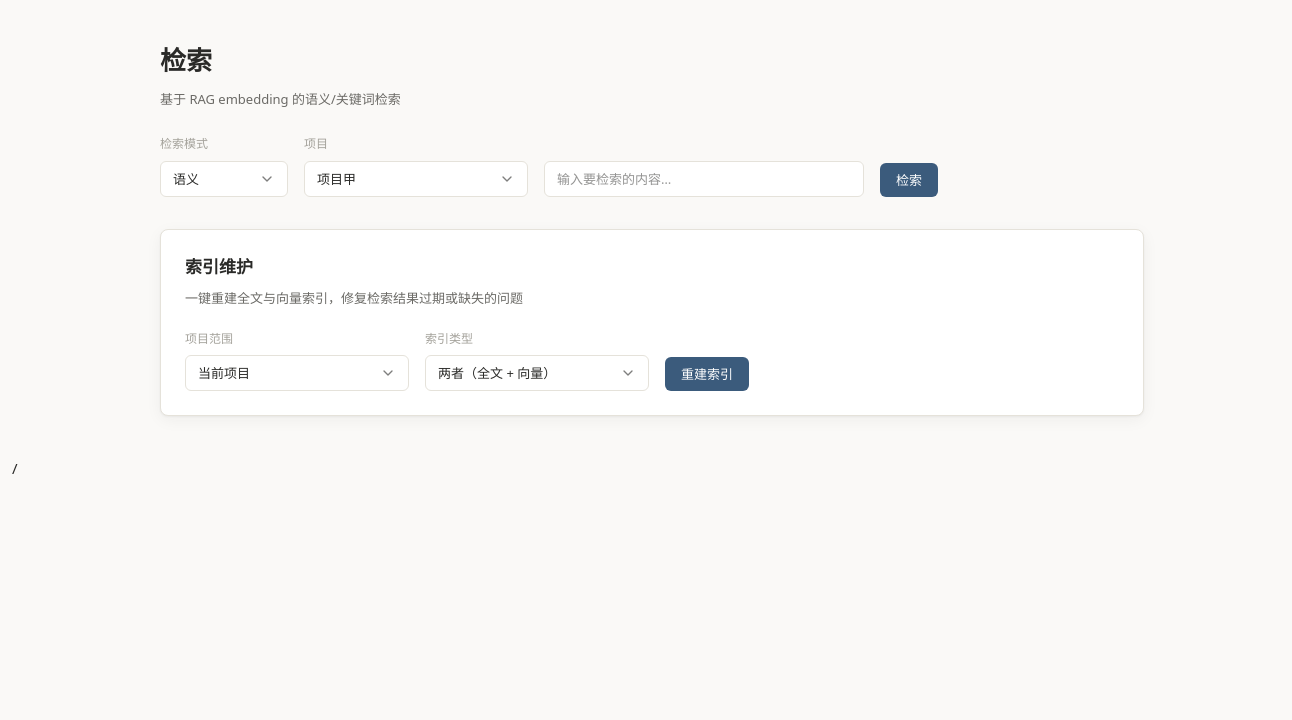
Test: 检索页 — 检索交互（#480） › total=0 → search-empty 空态
The image size is (1292, 720).
In the field labelled "输入要检索的内容…": {"x": 704, "y": 179} [544,161,864,197], type "青云"
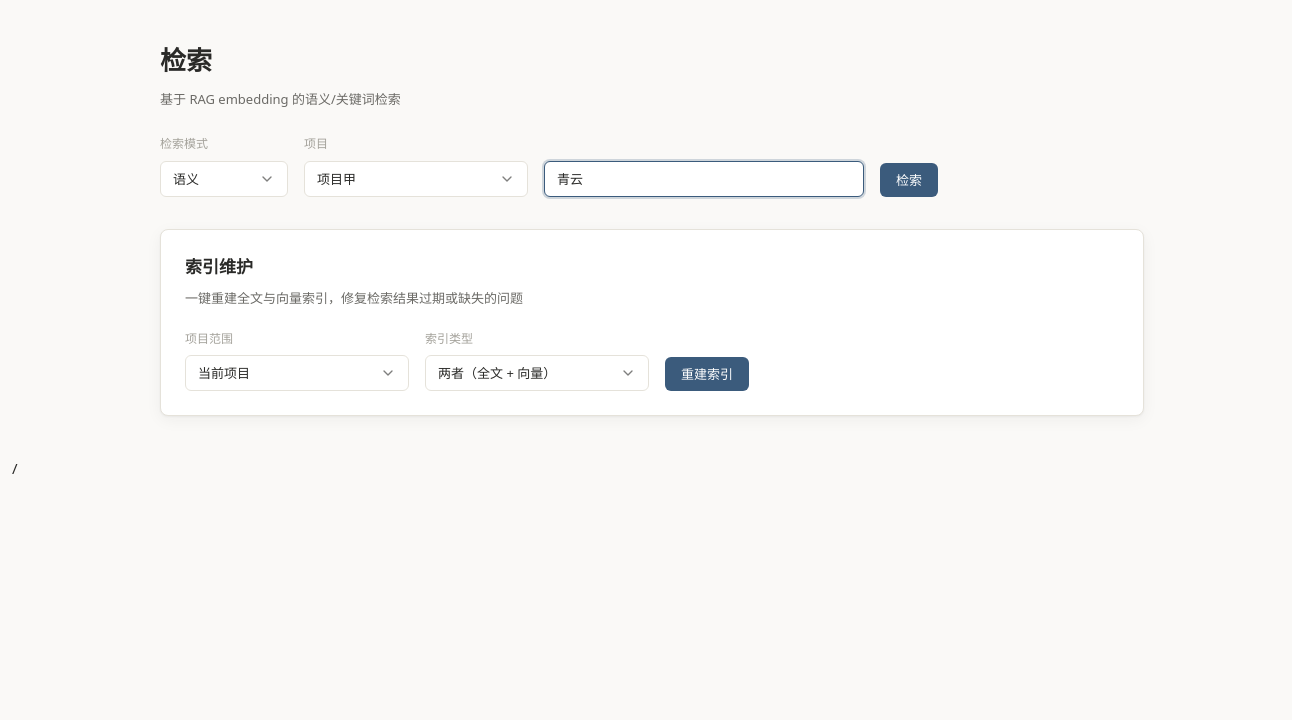
Click the button "检索": {"x": 909, "y": 180} [880,163,938,197]
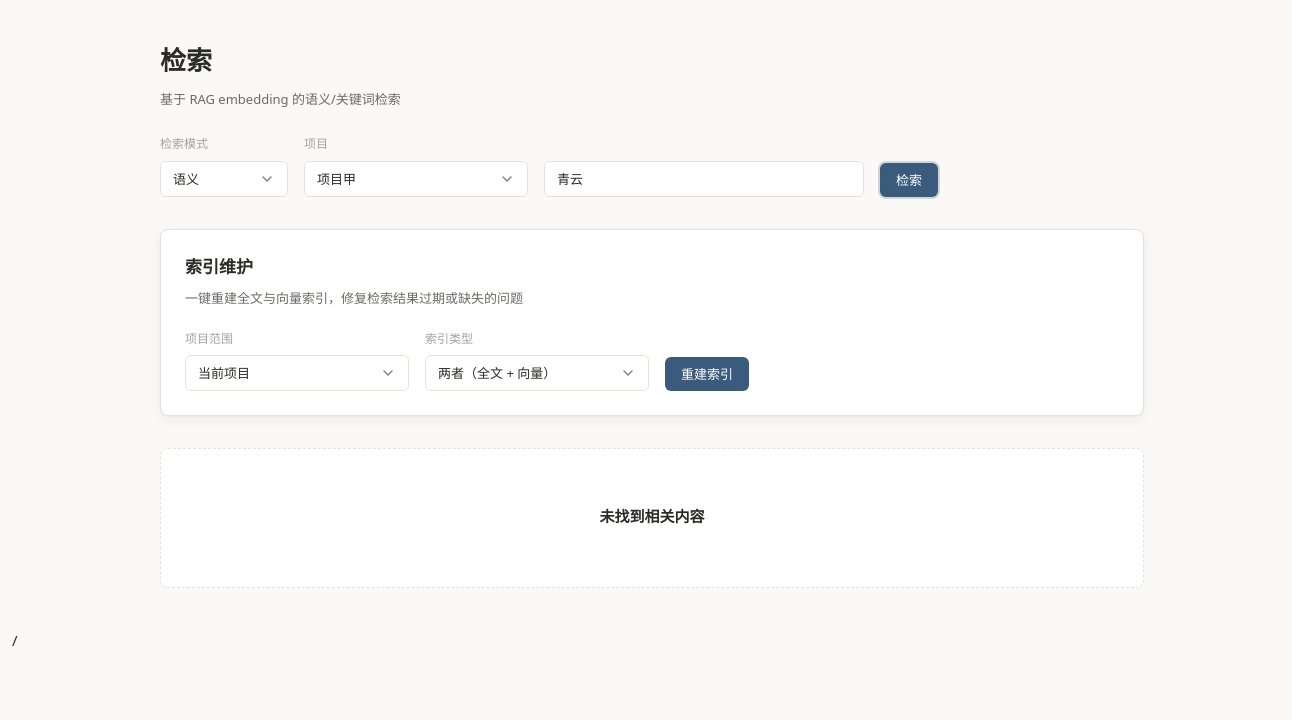
Expected: the element with test id "search-empty" is shown, [160,448,1144,588]
